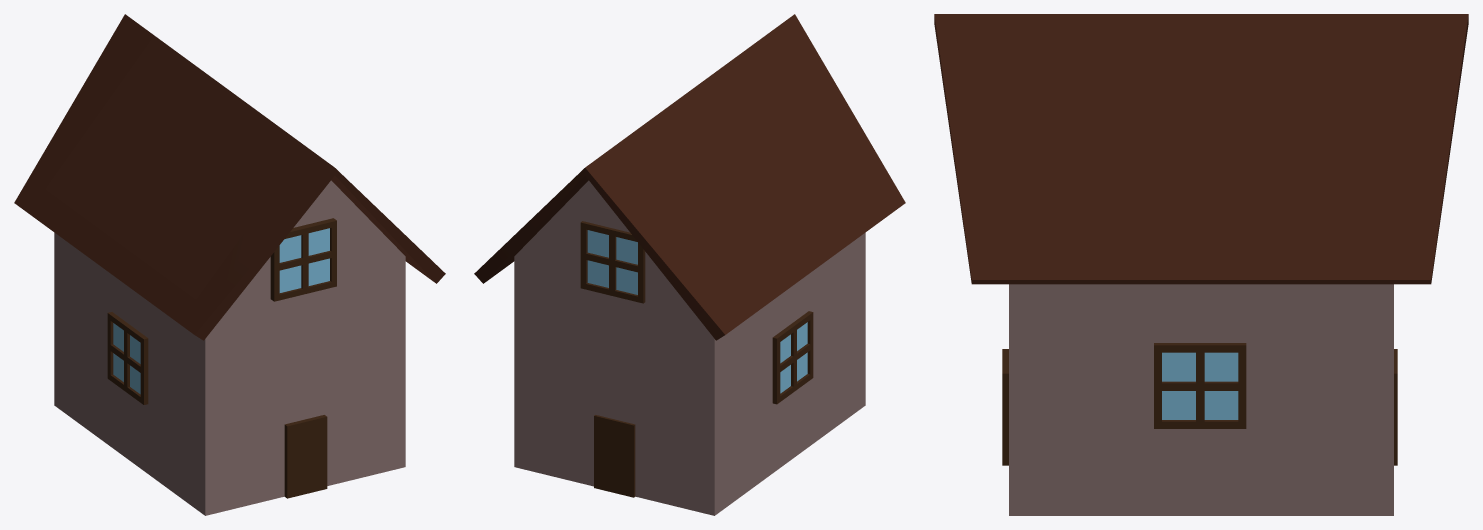
The model's file is House_BuildingSmall.fbx.
3 views of the same model, side by side, from view 1: azimuth 30°, elevation 25°; view 2: azimuth 150°, elevation 25°; view 3: azimuth 270°, elevation 25° (orthographic). The views are drawn at different scales.
Visible parts, largest first — view 1: House_BuildingSmall; view 2: House_BuildingSmall; view 3: House_BuildingSmall.
Boxes of the visible parts, x1,y1,x2,y2 form: House_BuildingSmall: [14, 14, 445, 515]; House_BuildingSmall: [474, 14, 905, 515]; House_BuildingSmall: [934, 14, 1468, 515].
Bounding box in the file's own units: 28.85 × 37.92 × 41.74.
